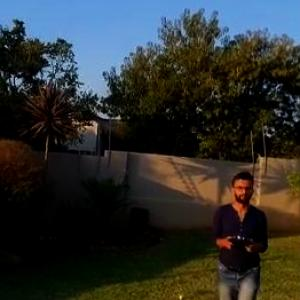follow: (206, 166, 271, 299)
